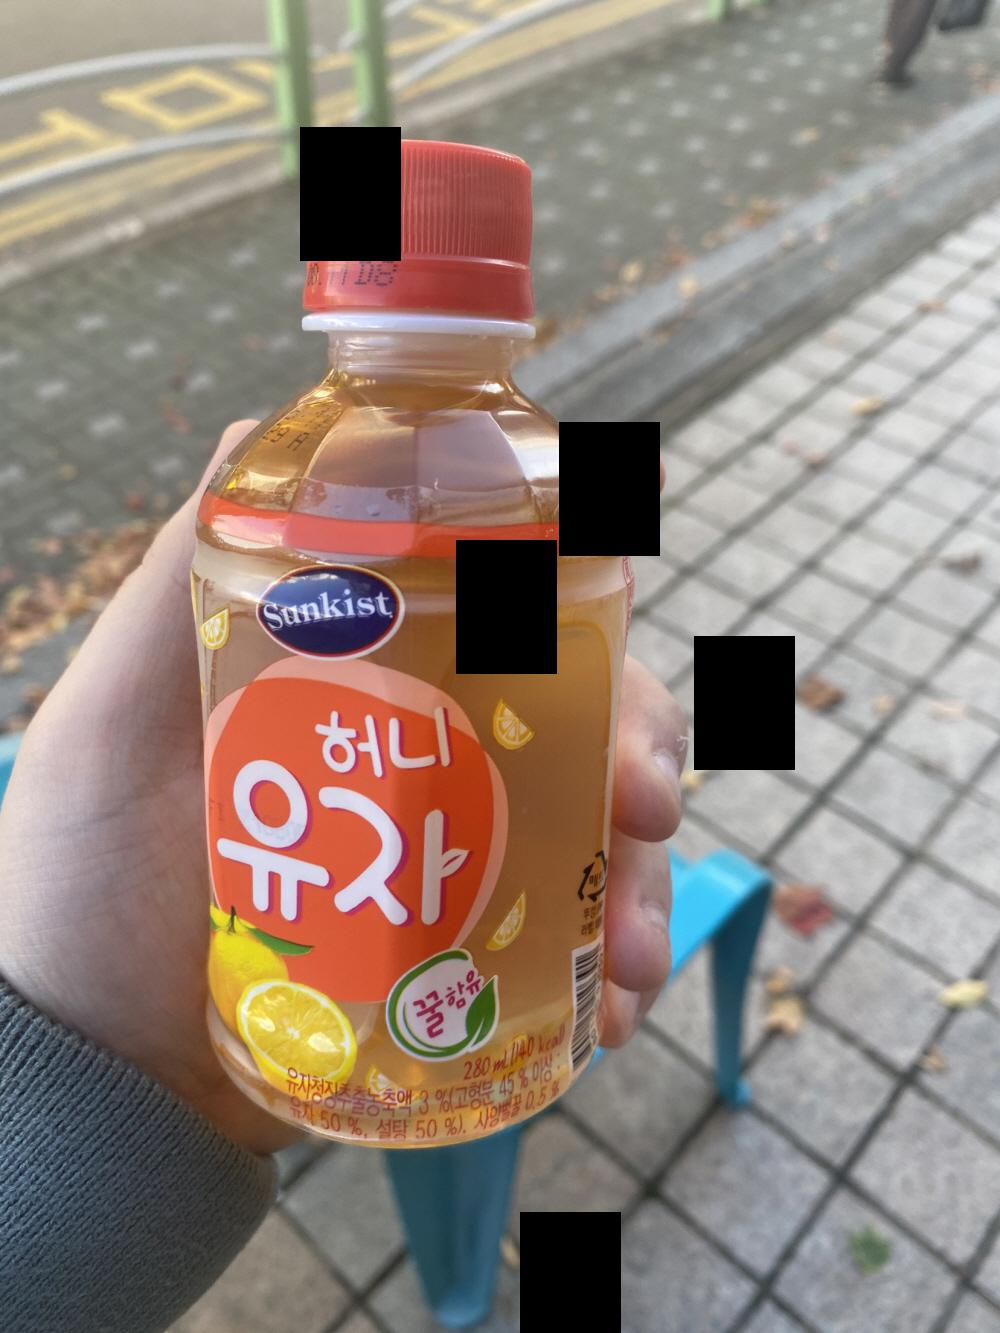honeyyuja: (188, 131, 632, 1150)
